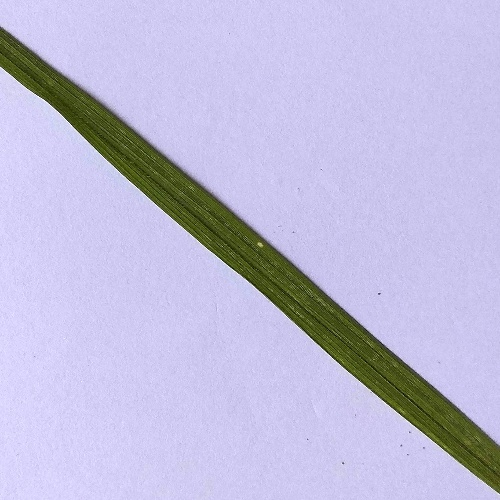Busuk Leher: (249, 234, 271, 253)
